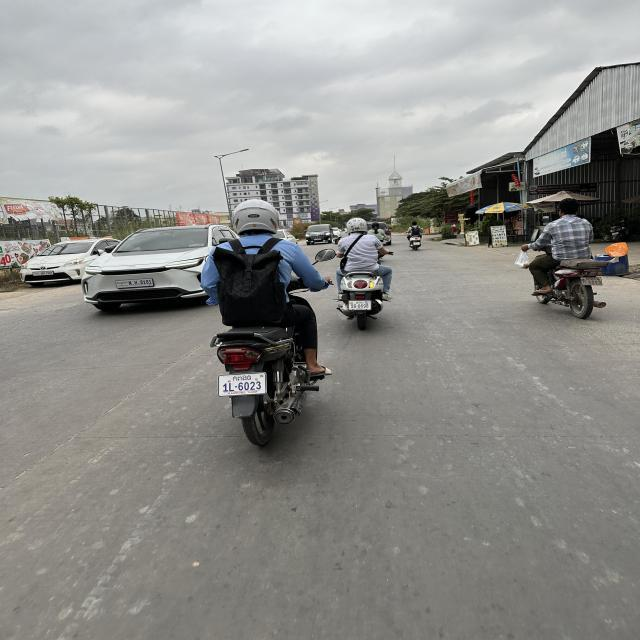Cambodia: (117, 281, 128, 286)
Kampong_Thom: (232, 375, 256, 382)
Kratie: (356, 301, 364, 304)
